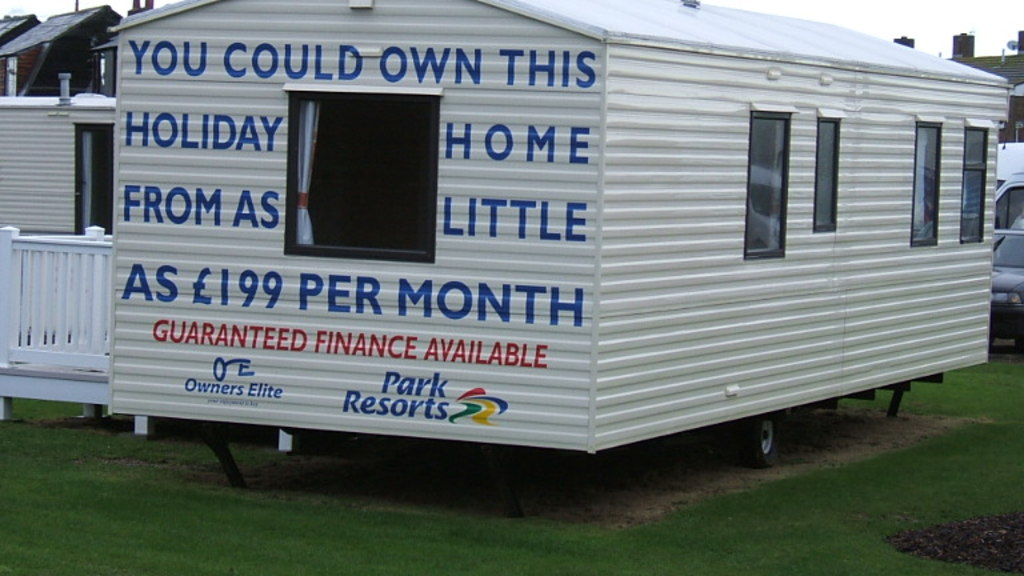Car: (993, 170, 1022, 314)
